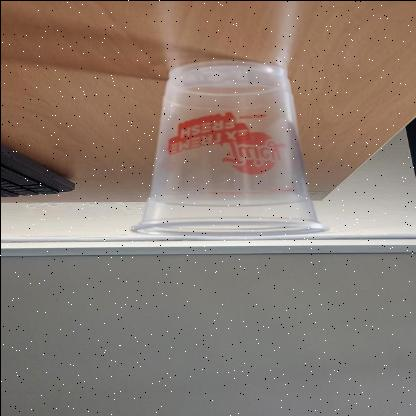Others: (127, 60, 329, 238)
